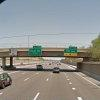Bridge: (4, 34, 90, 74)
